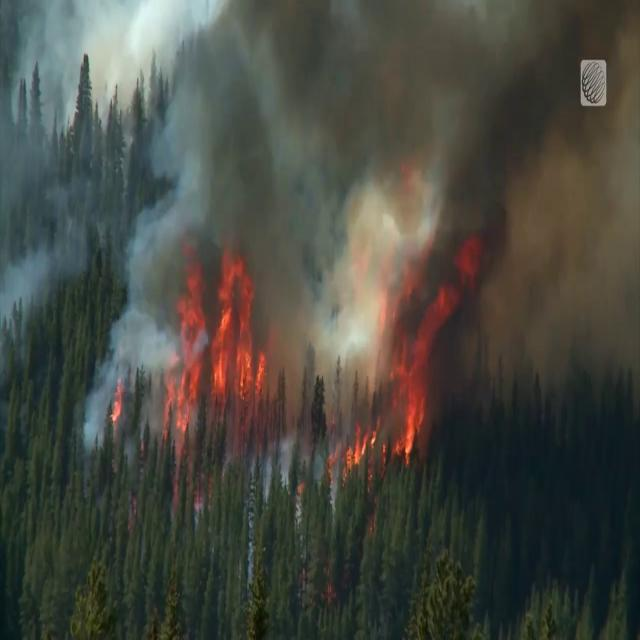Fire: (168, 241, 268, 435), (386, 271, 444, 469), (344, 414, 378, 478), (110, 373, 124, 435)
Smoke: (129, 0, 640, 401), (0, 3, 95, 313)
